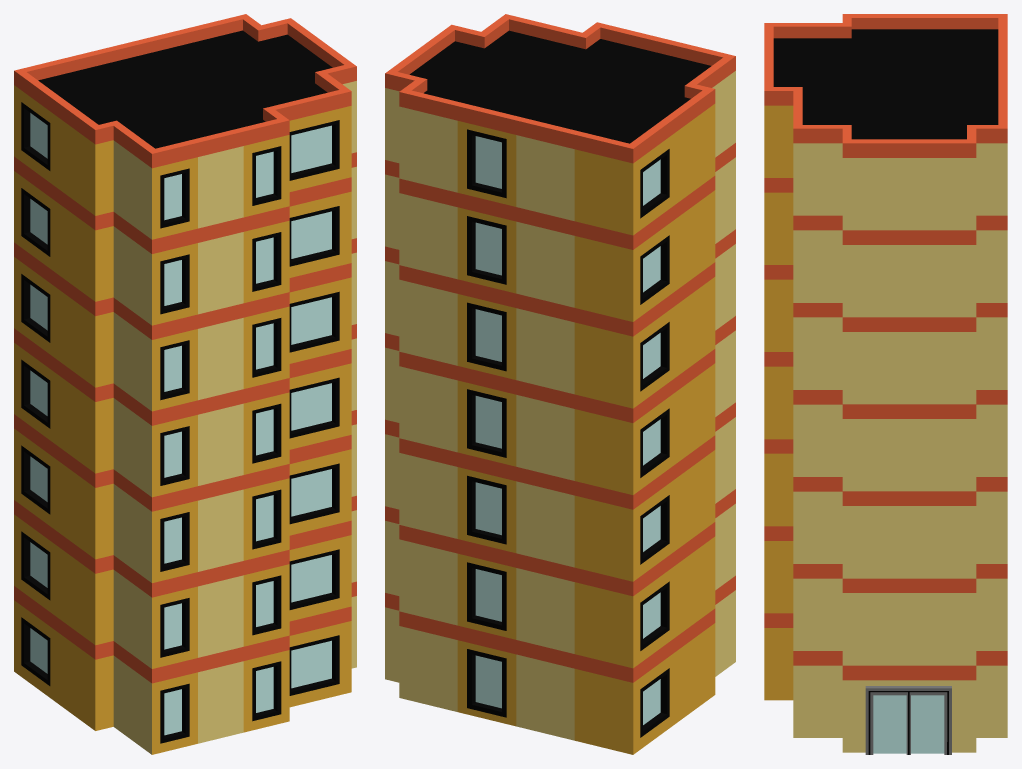
Rendered from BlockOfFlats3.fbx.
3 views of the same model, side by side, from view 1: azimuth 30°, elevation 25°; view 2: azimuth 150°, elevation 25°; view 3: azimuth 270°, elevation 25° (orthographic).
Visible parts, largest first — view 1: BlockOfFlats3; view 2: BlockOfFlats3; view 3: BlockOfFlats3.
Part boxes in pixels (x1=…): BlockOfFlats3: x1=14, y1=14, x2=356, y2=754; BlockOfFlats3: x1=385, y1=14, x2=735, y2=754; BlockOfFlats3: x1=764, y1=14, x2=1007, y2=754.
Bounding box in the file's own units: 5391 × 11640 × 4207.
